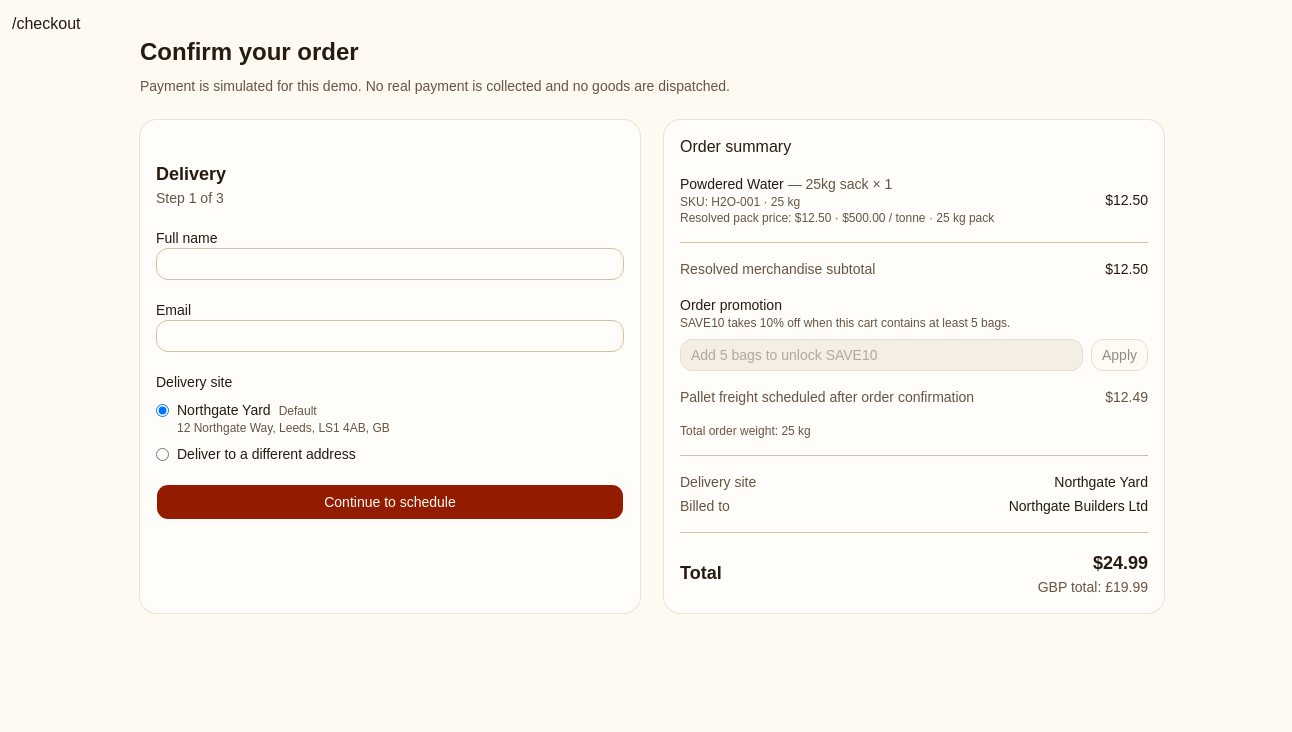
Test case: Checkout payment, idempotency, and conflicts › labels every new checkout control and reaches the slot picker by keyboard
This screenshot has width=1292, height=732.
Check: the radio button labelled "Northgate Yard" is shown, box [156, 404, 169, 417]
In the field labelled "Full name": (390, 264) [156, 248, 624, 280], type "Checkout Test"
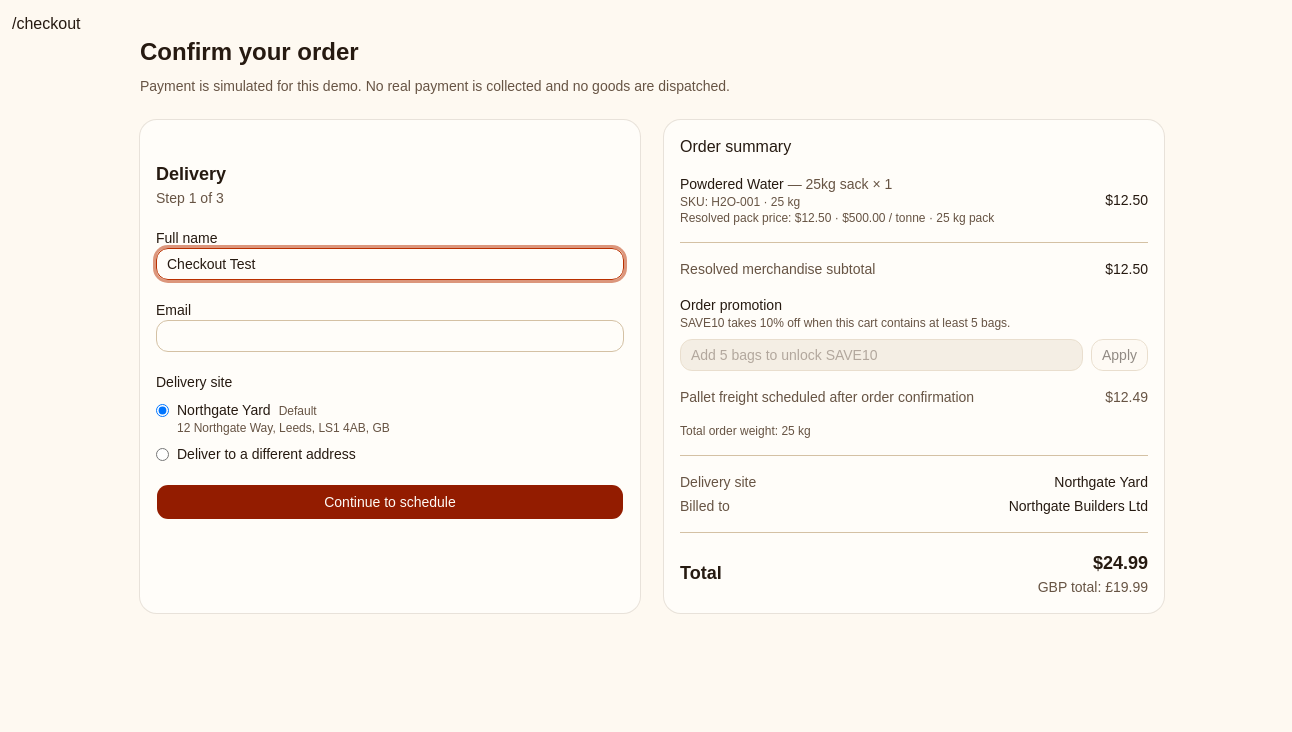
In the field labelled "Email": (390, 336) [156, 320, 624, 352], type "checkout@example.test"
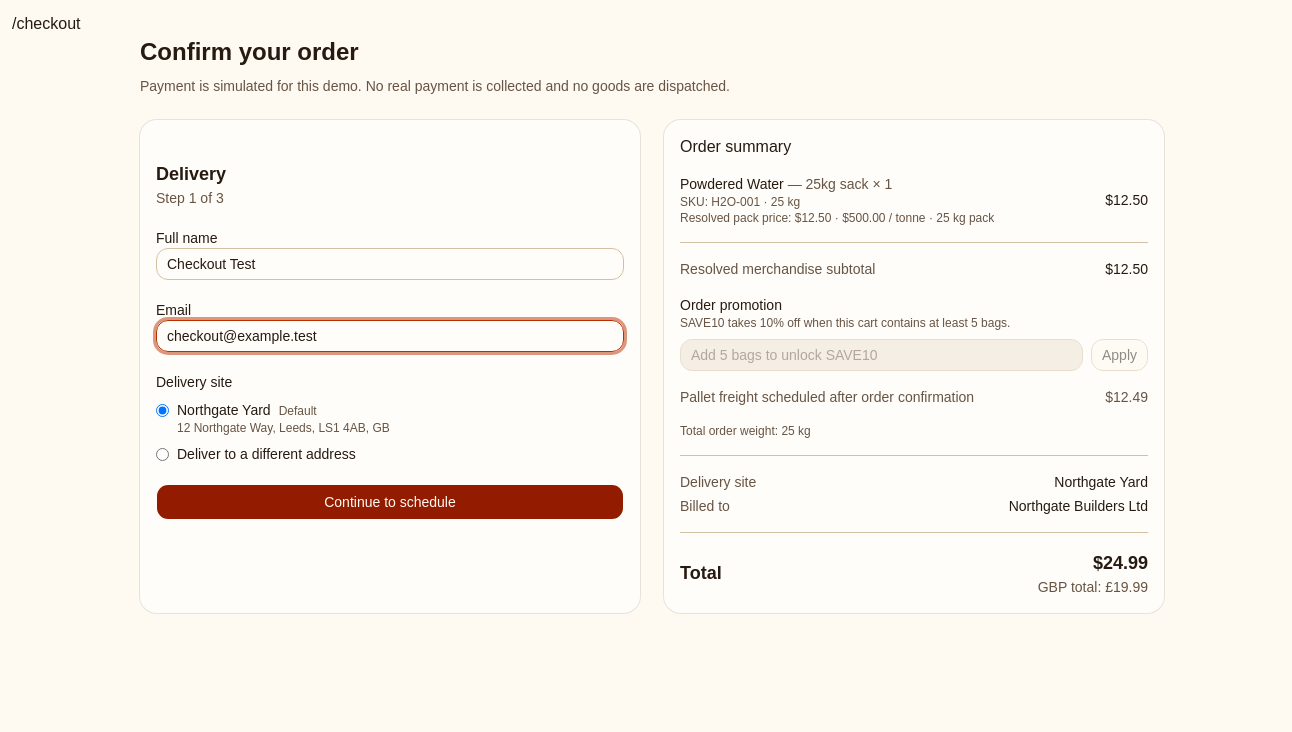
Click the button "Continue to schedule": (390, 502) [156, 484, 624, 520]
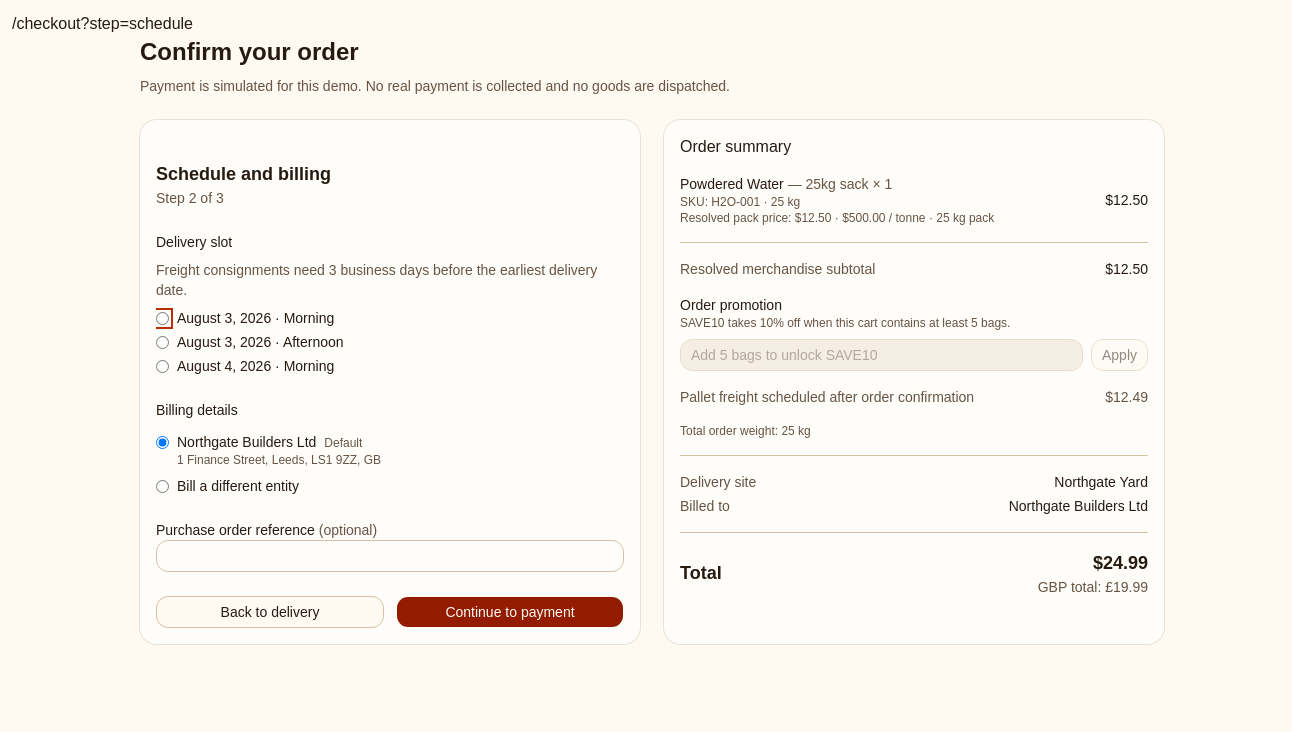
Check: the heading "Schedule and billing" is shown, box [156, 164, 331, 184]
Type keys "{ }"
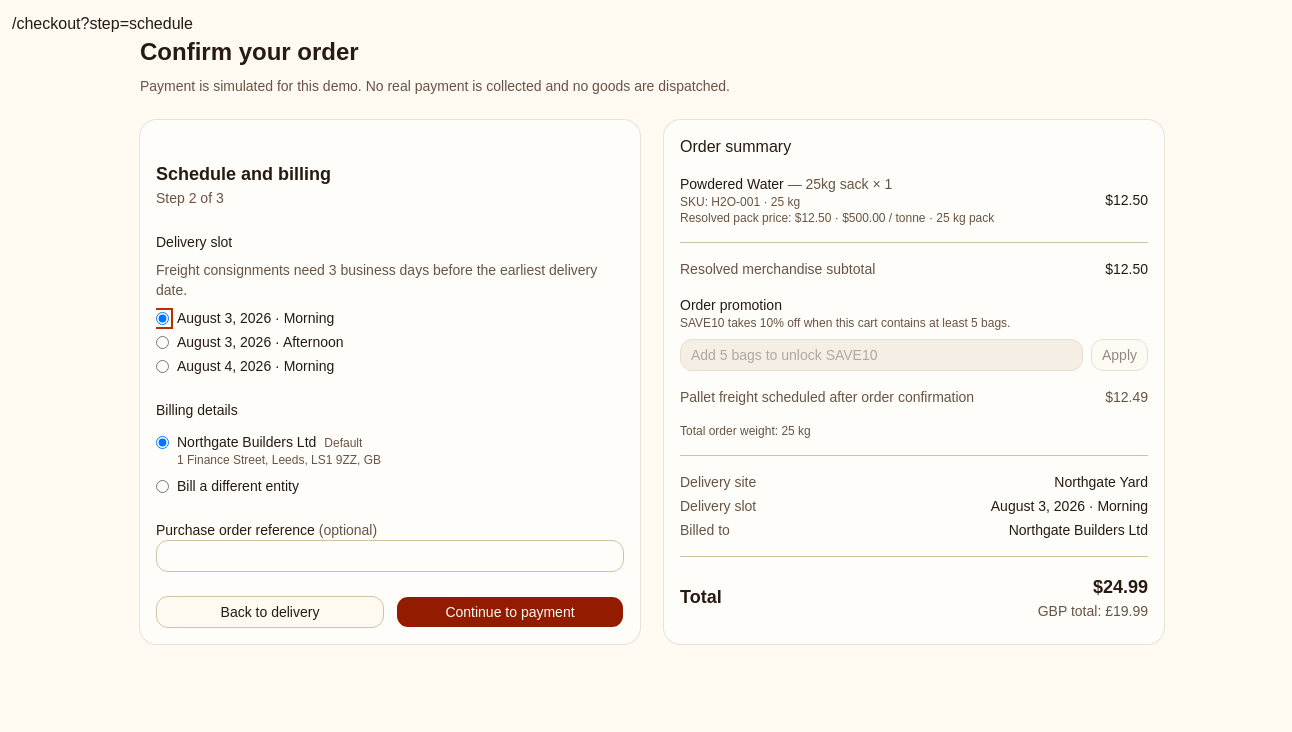
Check: the radio button labelled "August 3, 2026 · Morning" is checked, box [156, 312, 169, 324]
Press Arrowdown
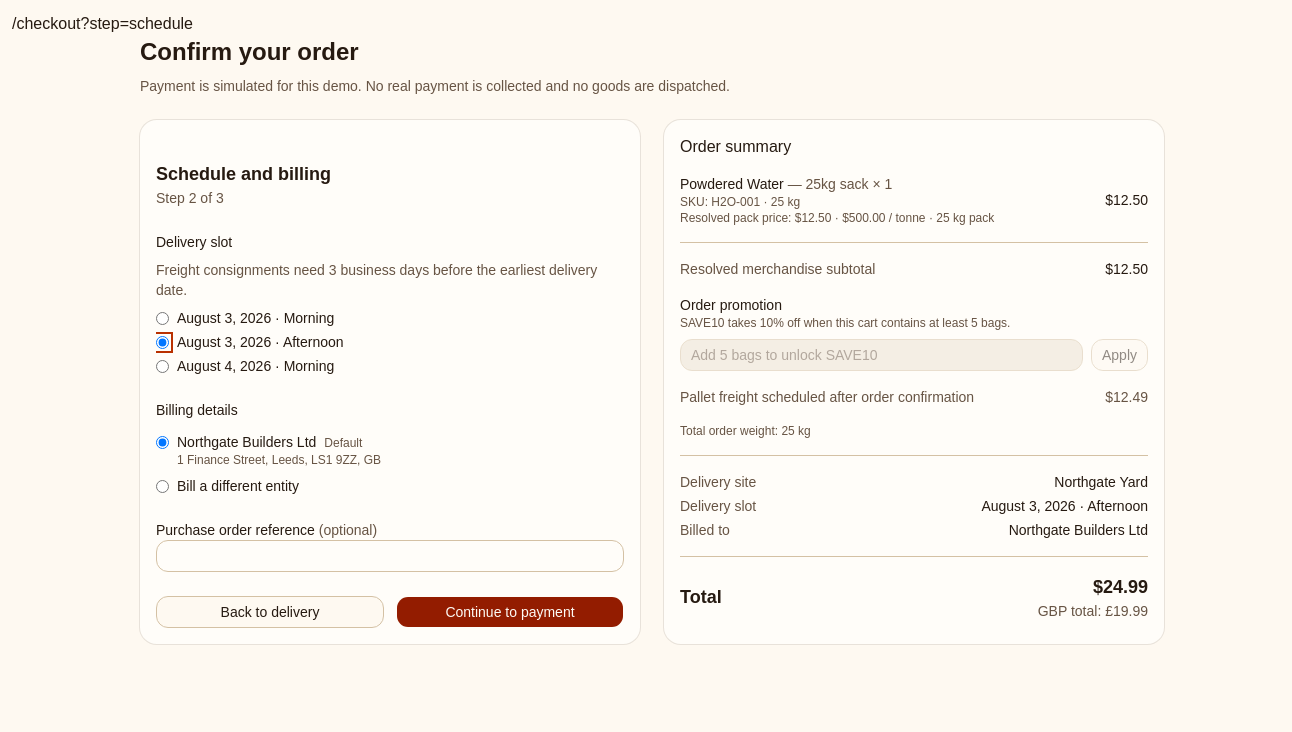
Check: the element "Delivery slot" is shown, box [156, 232, 624, 376]
Check: the element "Billing details" is shown, box [156, 402, 381, 494]
Check: the radio button labelled "August 3, 2026 · Afternoon" is checked, box [156, 336, 169, 348]
